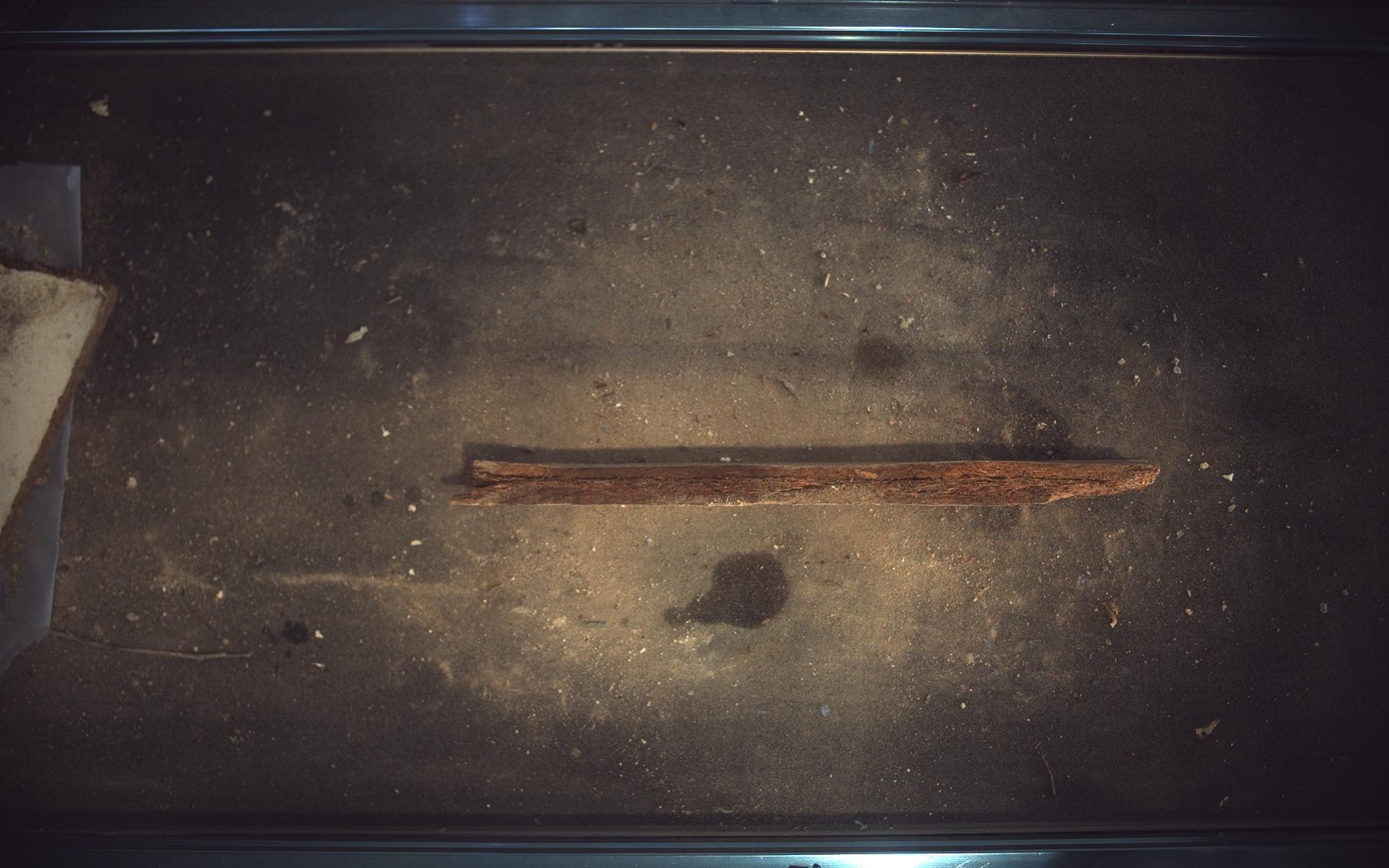wood: (453, 460, 1162, 506), (1, 263, 116, 541)
